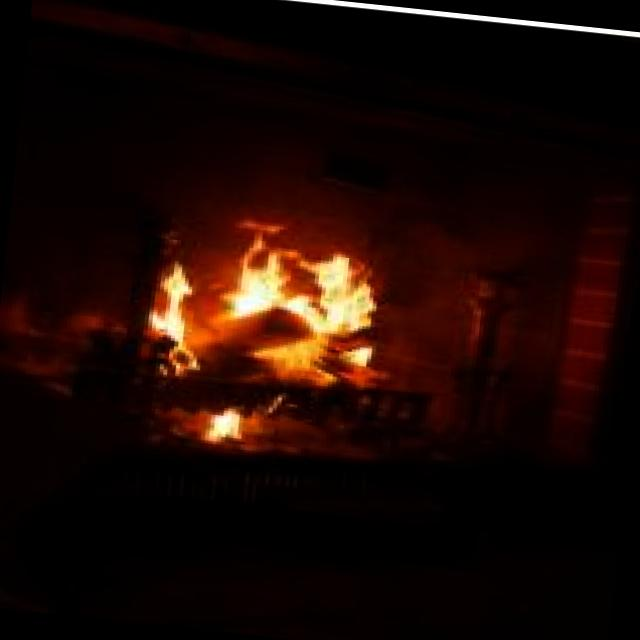Fire_Save: (134, 205, 392, 399)
